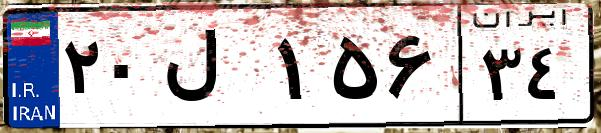0: (110, 28, 158, 98)
1: (270, 28, 330, 110)
2: (57, 26, 110, 100)
3: (475, 38, 525, 113)
4: (525, 38, 570, 115)
5: (330, 28, 385, 110)
6: (385, 28, 445, 110)
ل: (158, 20, 270, 120)
